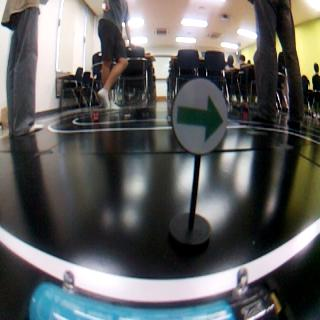right: (177, 81, 227, 156)
